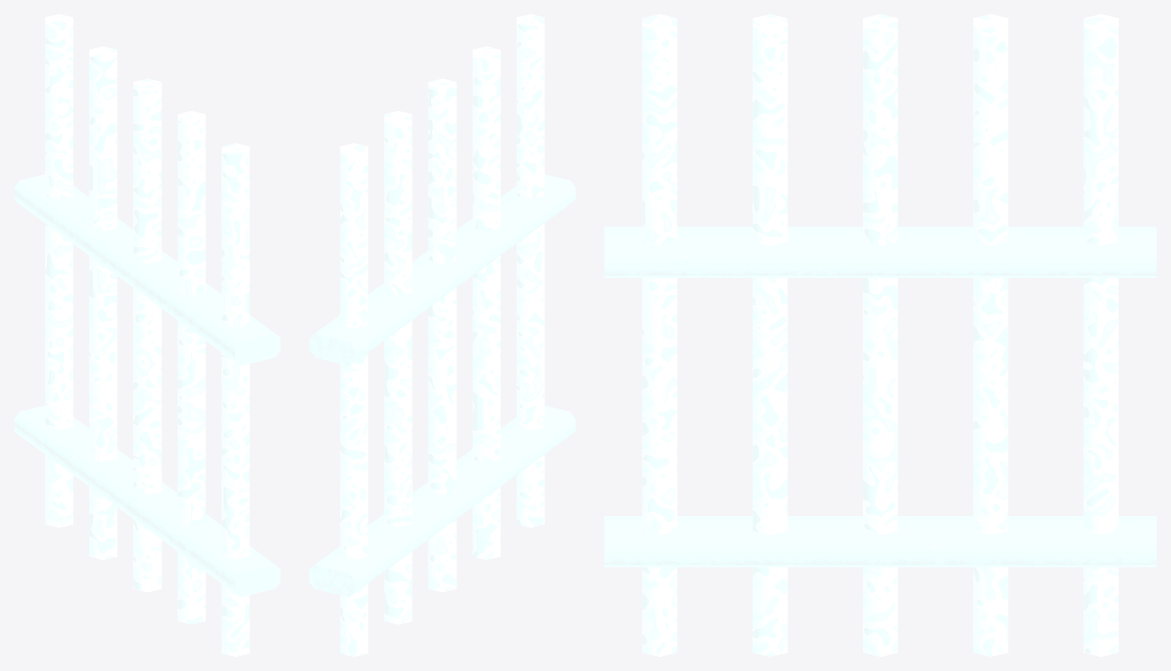
Rendered from 025_028_prison_bars_wall.glb.
The picture shows the model from 3 angles, left to right: view 1: azimuth 30°, elevation 25°; view 2: azimuth 150°, elevation 25°; view 3: azimuth 270°, elevation 25°; orthographic projection. The views are drawn at different scales.
Visible parts, largest first — view 1: v_bars, h_bars; view 2: v_bars, h_bars; view 3: v_bars, h_bars.
Boxes of the visible parts, <box> form: v_bars: <box>45,14,249,656</box>; h_bars: <box>14,174,280,597</box>; v_bars: <box>340,14,544,656</box>; h_bars: <box>309,174,575,597</box>; v_bars: <box>642,14,1118,656</box>; h_bars: <box>604,226,1156,567</box>.
Size of the model in its own units: 0.18 by 1.88 by 1.5.
2 materials, 2 textured.
